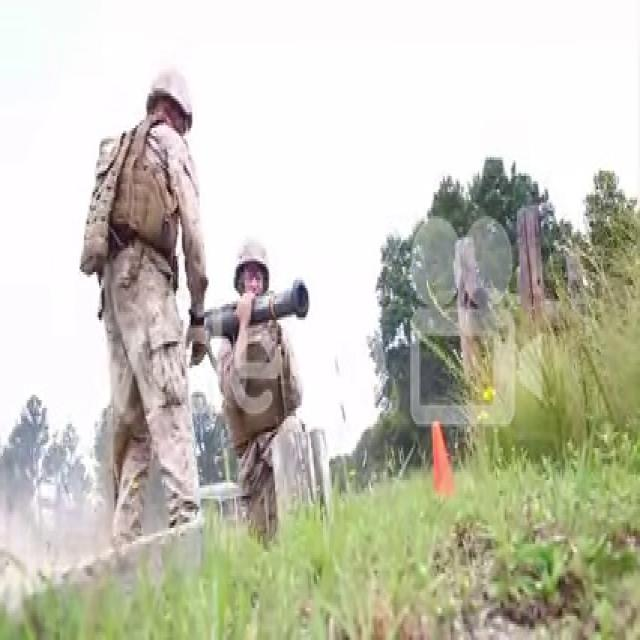bazooka: (207, 274, 315, 341)
